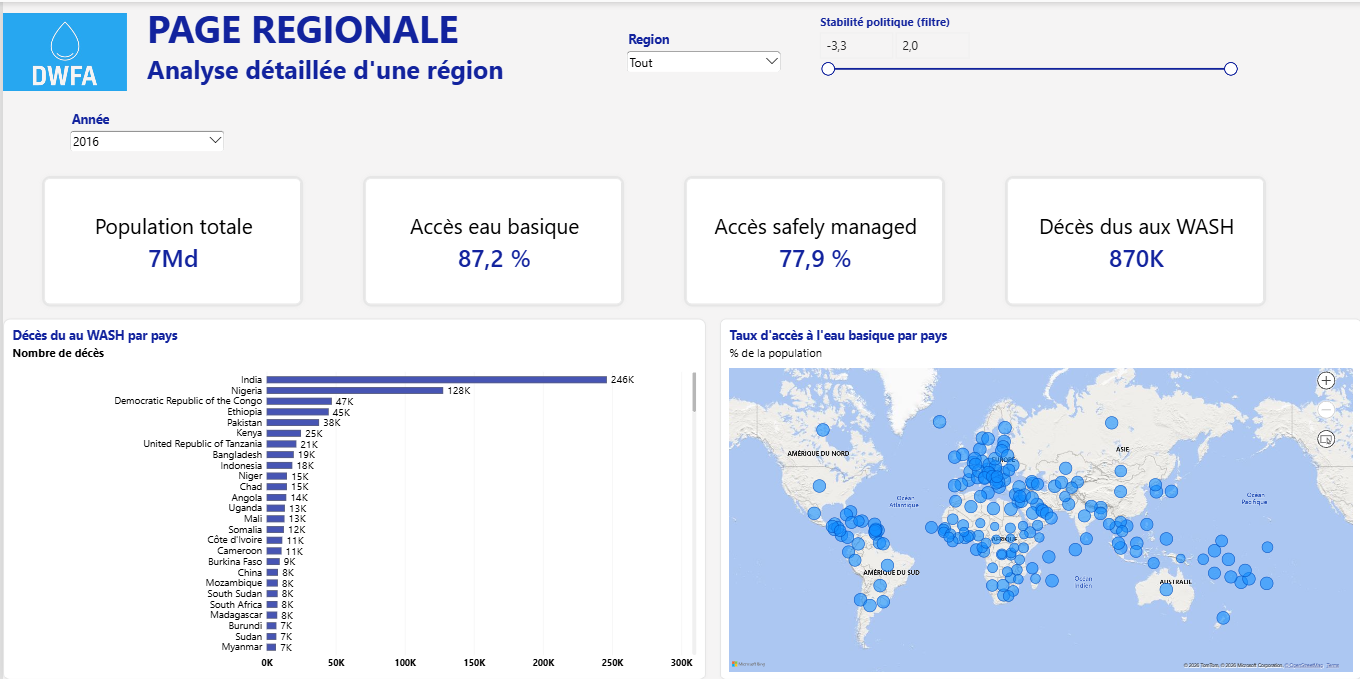

The page's visual inventory and layout, read from the dashboard file:
{"tool":"powerbi","page":{"name":"PAGE regionale","canvas":[2600,1300],"ordinal":1},"visuals":[{"type":"clusteredBarChart","title":"Décès du au WASH par pays","fields":{"Category":["MortalityRateAttributedToWater.Country"],"Y":["_Mesure.Décès WASH"]},"box":[0,605.7,1345.7,694.3],"z":0},{"type":"map","title":"Taux d''accès à l''eau basique par pays","fields":{"Size":["_Mesure.Accès eau basique"],"Category":["RegionCountry.Country"]},"box":[1371.4,605.7,1228.6,694.3],"z":1000},{"type":"shape","box":[0,0,1050,207.9],"z":2000},{"type":"textbox","box":[276.3,0,773.7,207.9],"z":3000},{"type":"image","box":[0,0,246.2,196.2],"z":4000},{"type":"slicer","fields":{"Values":["RegionCountry.Region"]},"box":[1189,54.6,305.3,100],"z":5000},{"type":"slicer","fields":{"Values":["PoliticalStability.Political_Stability"]},"box":[1555.6,22.2,810.5,147.4],"z":6000},{"type":"cardVisual","fields":{"Data":["_Mesure.Population totale"]},"box":[74.1,333.3,500,250],"z":7000},{"type":"cardVisual","fields":{"Data":["_Mesure.Accès eau basique"]},"box":[688.9,333.3,500,250],"z":8000},{"type":"cardVisual","fields":{"Data":["_Mesure.Accès eau safely managed"]},"box":[1303.7,333.3,500,250],"z":9000},{"type":"cardVisual","fields":{"Data":["_Mesure.Décès WASH"]},"box":[1918.5,333.3,500,250],"z":10000},{"type":"slicer","fields":{"Values":["DimYear.Year"]},"box":[123.5,206.8,305.3,100],"z":11000}]}

Visuals, with their boxes in screenshot pixels (x1, y1, x2, y2), scaled from the page's 2600x1300 canvas onto the 1360x679 screenshot:
"Décès du au WASH par pays" clusteredBarChart: <box>0,316,704,678</box>
"Taux d''accès à l''eau basique par pays" map: <box>717,316,1359,678</box>
shape: <box>0,0,549,109</box>
textbox: <box>145,0,549,109</box>
image: <box>0,0,129,102</box>
slicer - RegionCountry.Region: <box>622,29,782,81</box>
slicer - PoliticalStability.Political_Stability: <box>814,12,1238,89</box>
cardVisual - _Mesure.Population totale: <box>39,174,300,305</box>
cardVisual - _Mesure.Accès eau basique: <box>360,174,622,305</box>
cardVisual - _Mesure.Accès eau safely managed: <box>682,174,943,305</box>
cardVisual - _Mesure.Décès WASH: <box>1004,174,1265,305</box>
slicer - DimYear.Year: <box>65,108,224,160</box>
